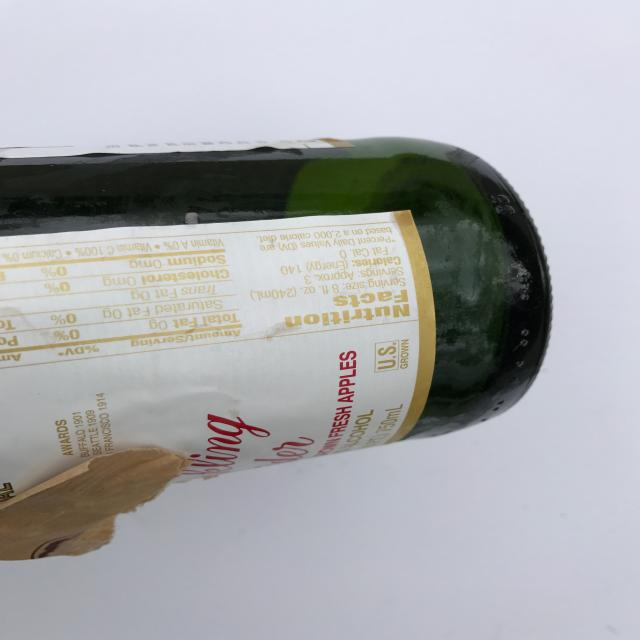glass: (0, 135, 553, 558)
